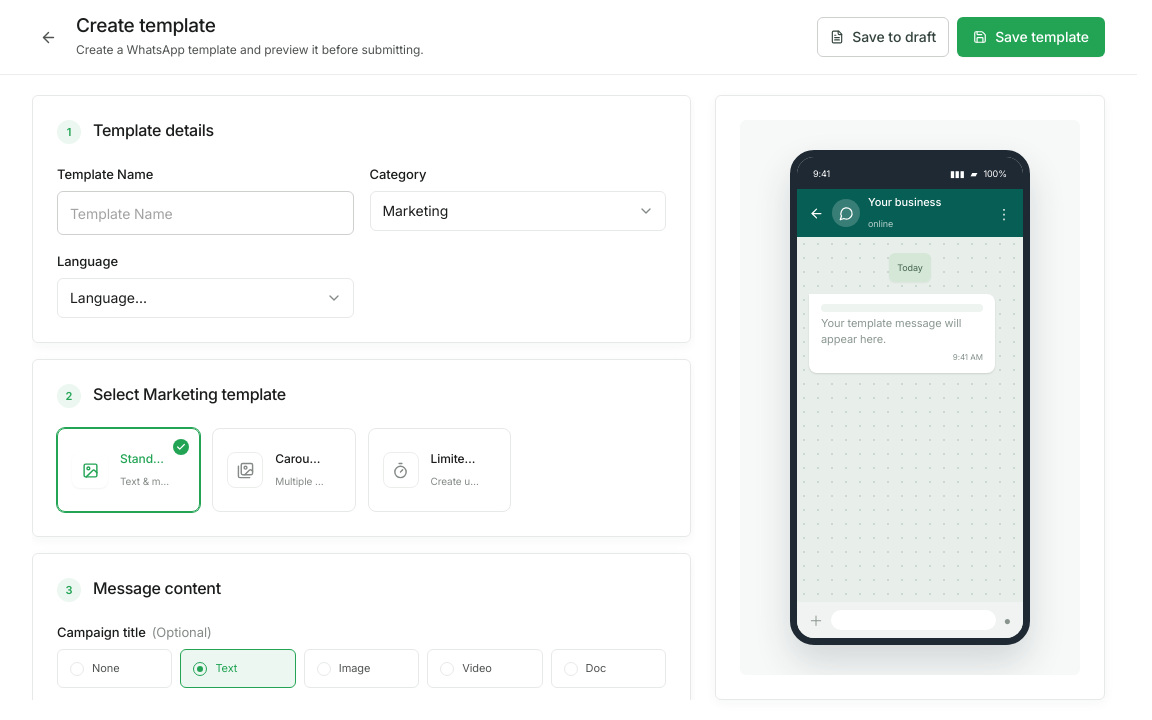
it: TemplateBuilder › submits without a header when the optional text header is empty
Type "No Header Template" into the field labelled "Template Name". click: x=205, y=213
box: x1=57 y1=191 x2=354 y2=235
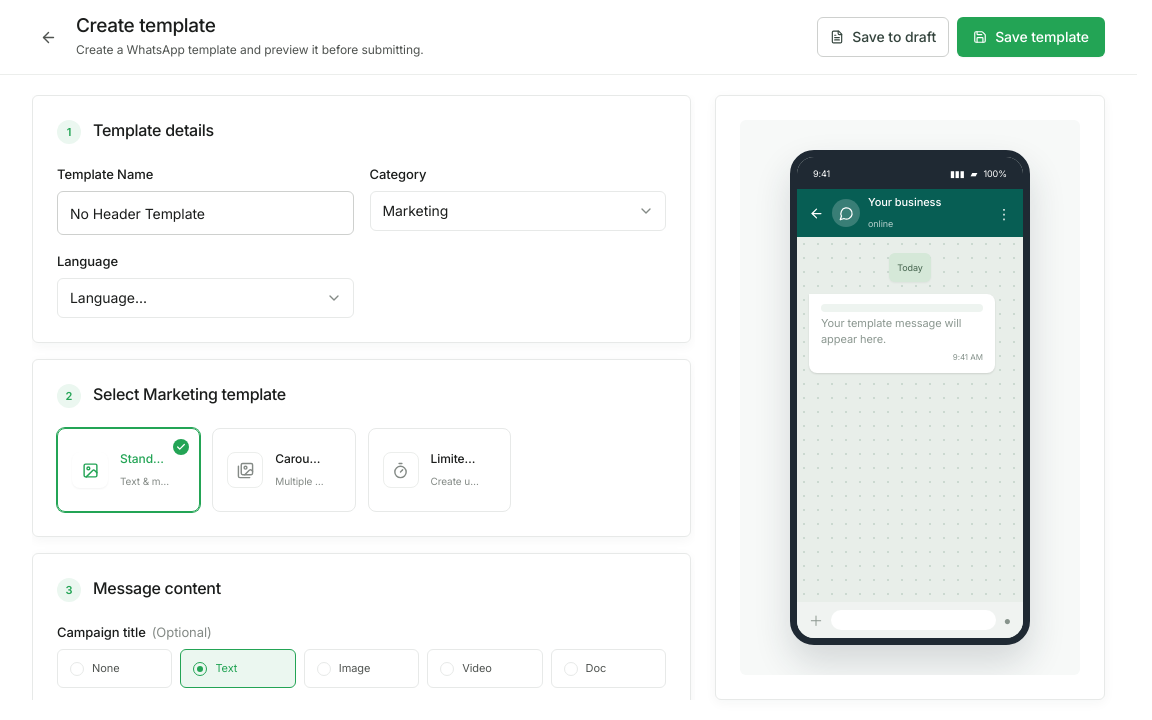
Select "English (US)" in the dropdown labelled "Language". click: x=205, y=298
box: x1=57 y1=278 x2=354 y2=318
(page scrolled)
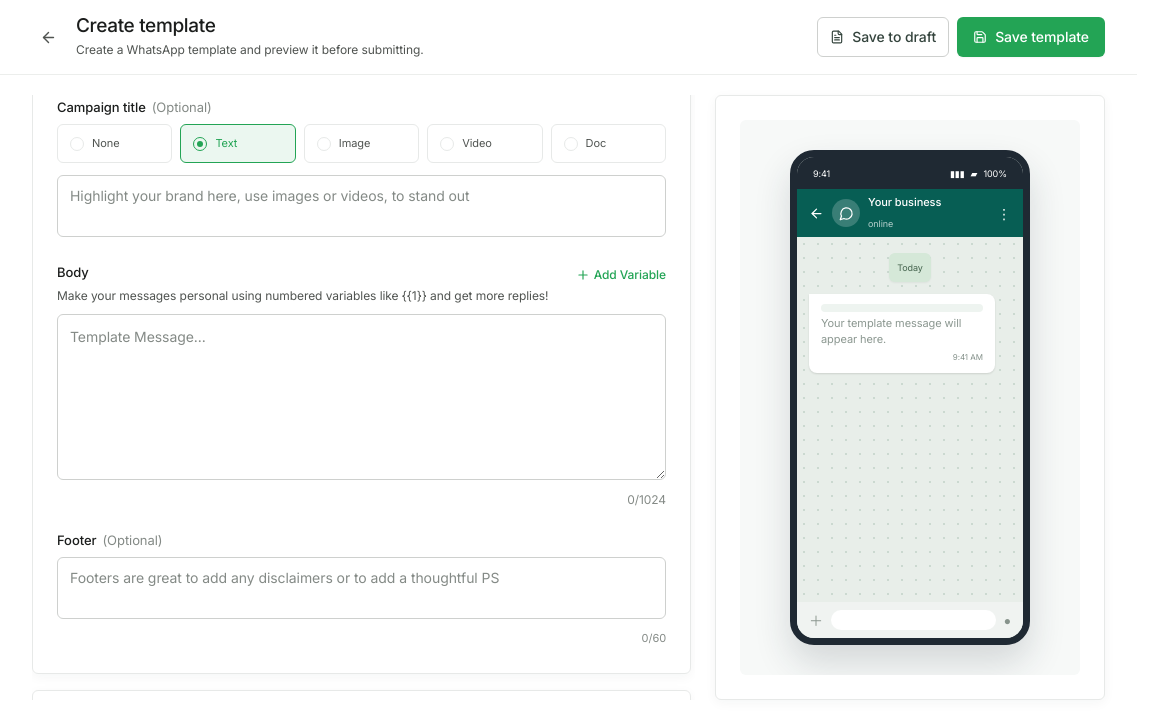
Type "Hello" into the text box with placeholder "Template Message...". click: x=362, y=397
box: x1=57 y1=314 x2=666 y2=480
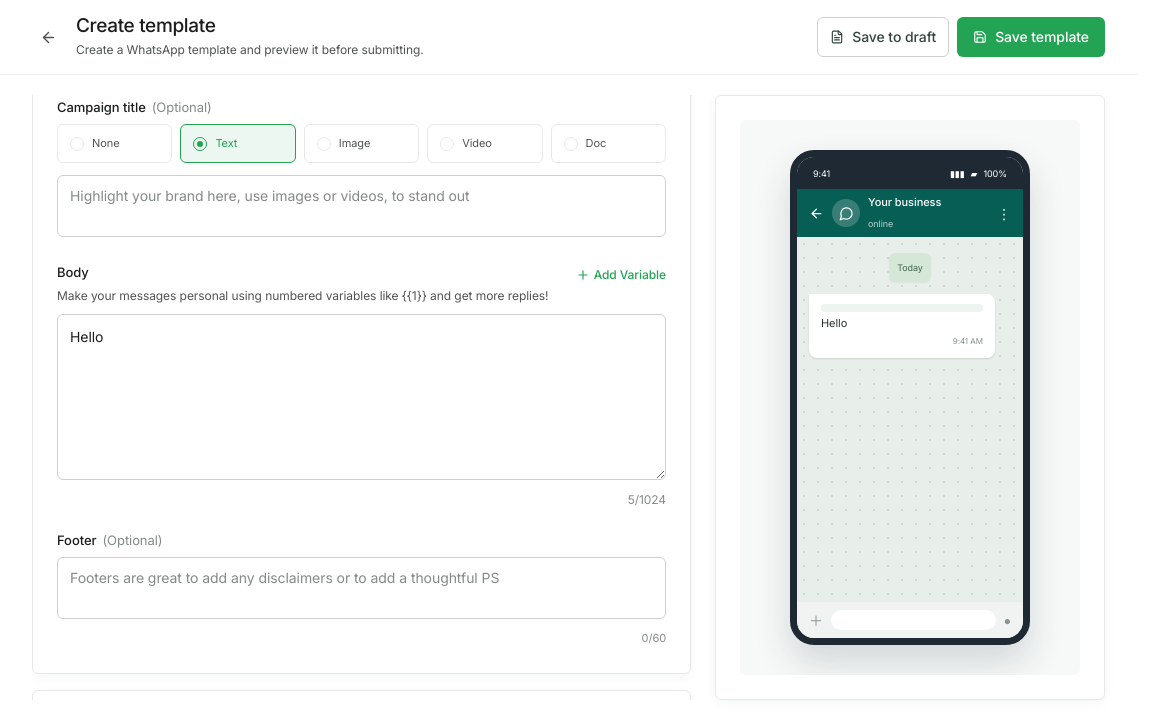
Click the button "Save template". click: x=1031, y=37
box: x1=957 y1=17 x2=1105 y2=57
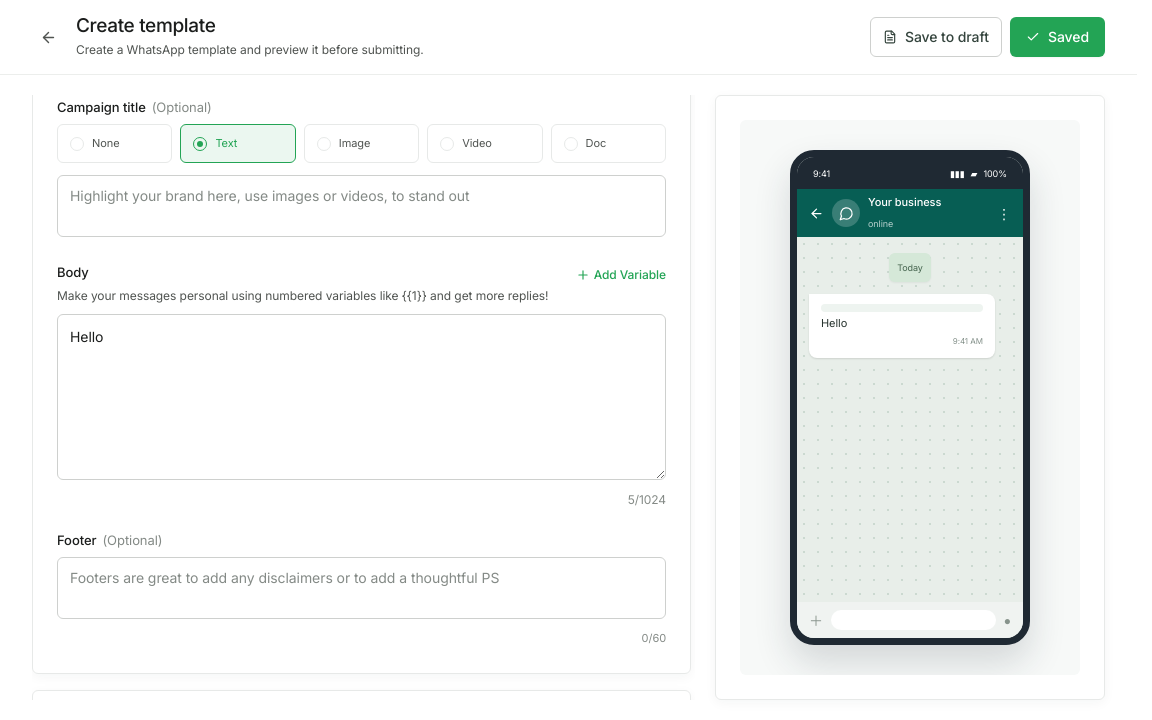
Check: the button "Saved" is shown, box x1=1010 y1=17 x2=1105 y2=57
